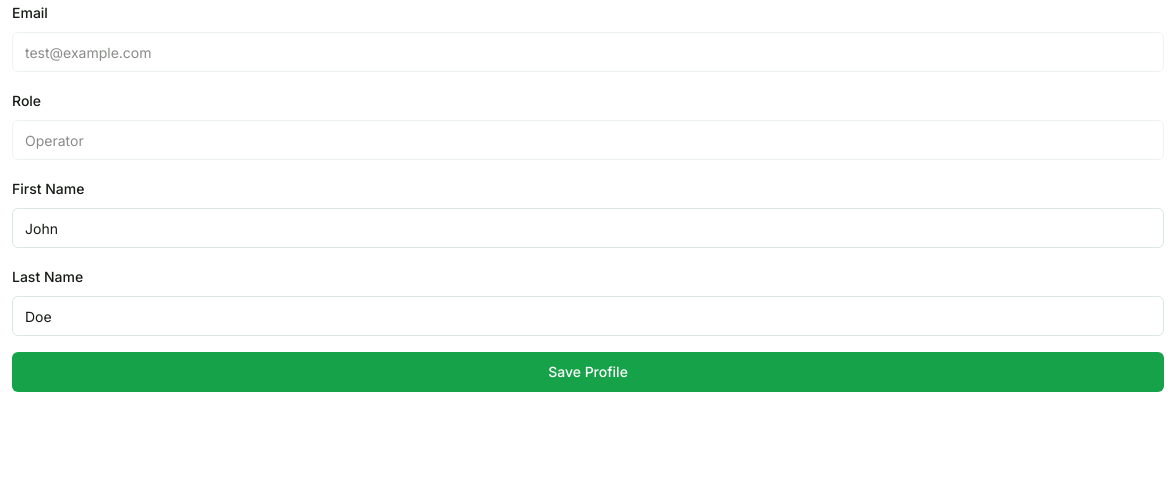
Scenario: ProfileForm › shows generic error for non-API errors
Click the button "Save Profile" at [588, 372], box [12, 352, 1164, 392]
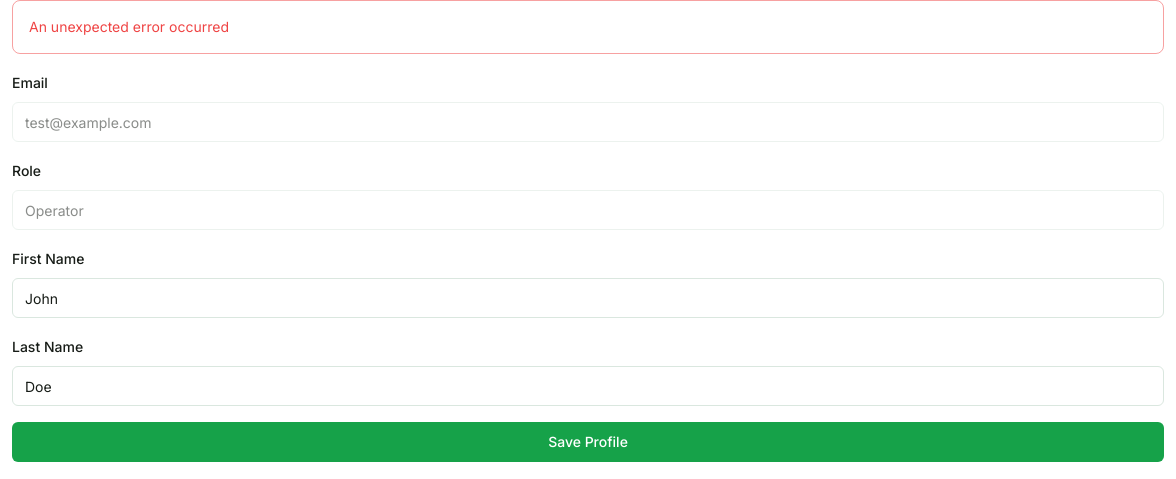
Expected: the text "An unexpected error occurred" is shown, [29, 18, 229, 35]
